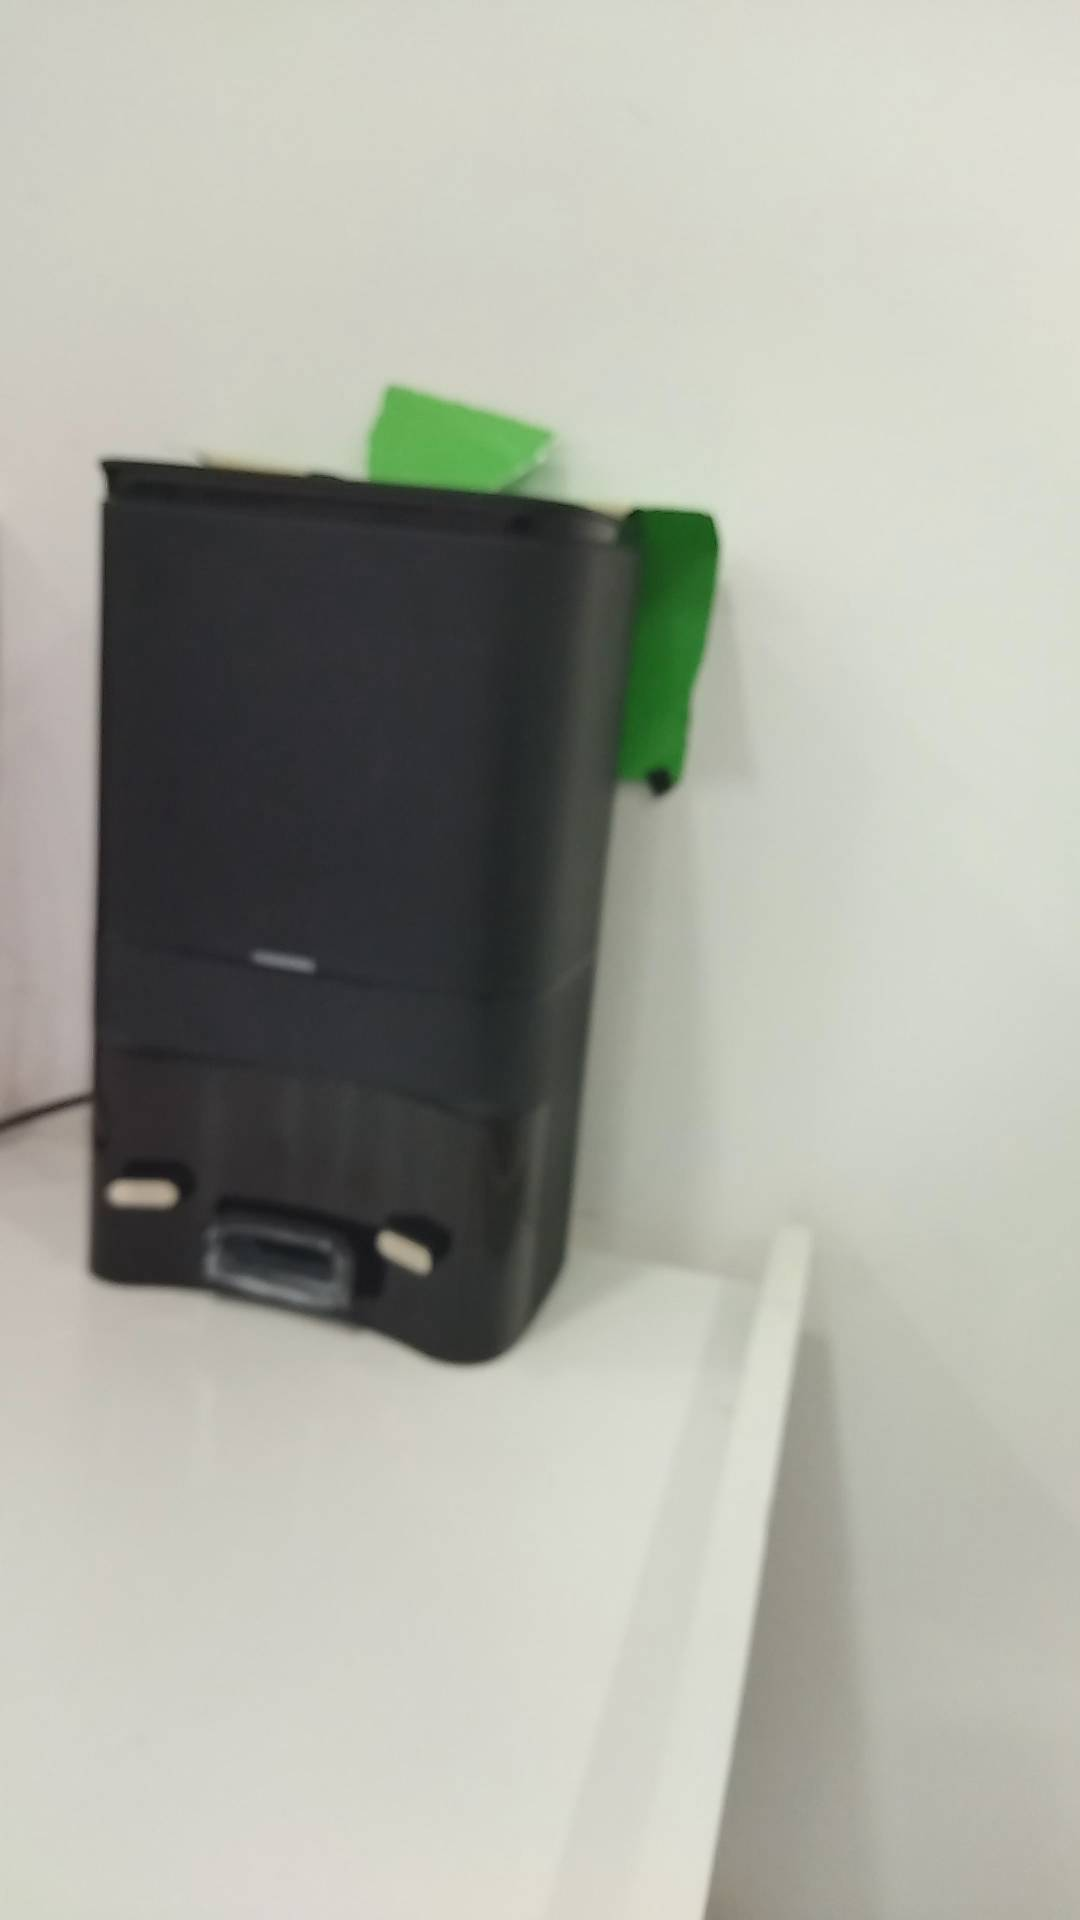dust collecting barrel: (90, 456, 633, 1365)
